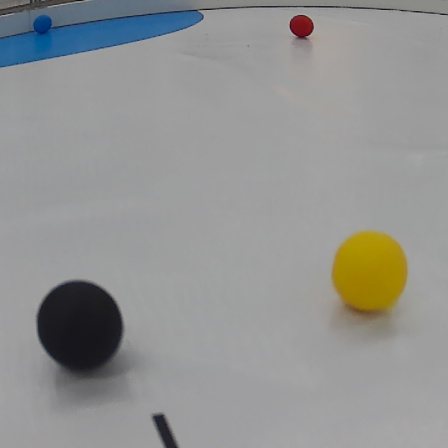black: (36, 280, 123, 370)
blue: (30, 15, 52, 34)
red: (291, 15, 316, 38)
yellow: (331, 229, 409, 313)
